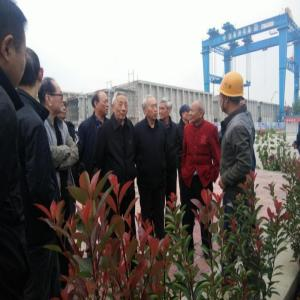none: (2, 2, 30, 96), (18, 46, 44, 101), (39, 75, 63, 115), (112, 91, 131, 122), (188, 99, 206, 128), (92, 91, 110, 119), (143, 94, 160, 121), (159, 94, 173, 121), (57, 98, 69, 120), (179, 104, 191, 123)
yellow: (218, 73, 246, 118)
